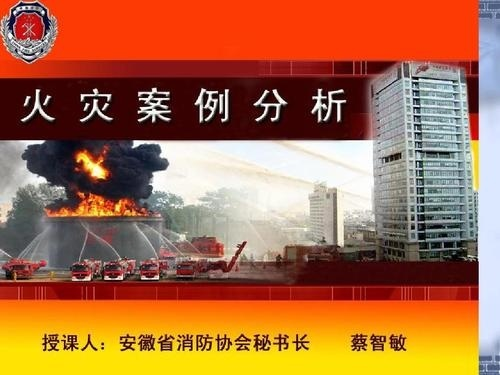fire: (47, 191, 151, 216), (76, 153, 107, 179)
